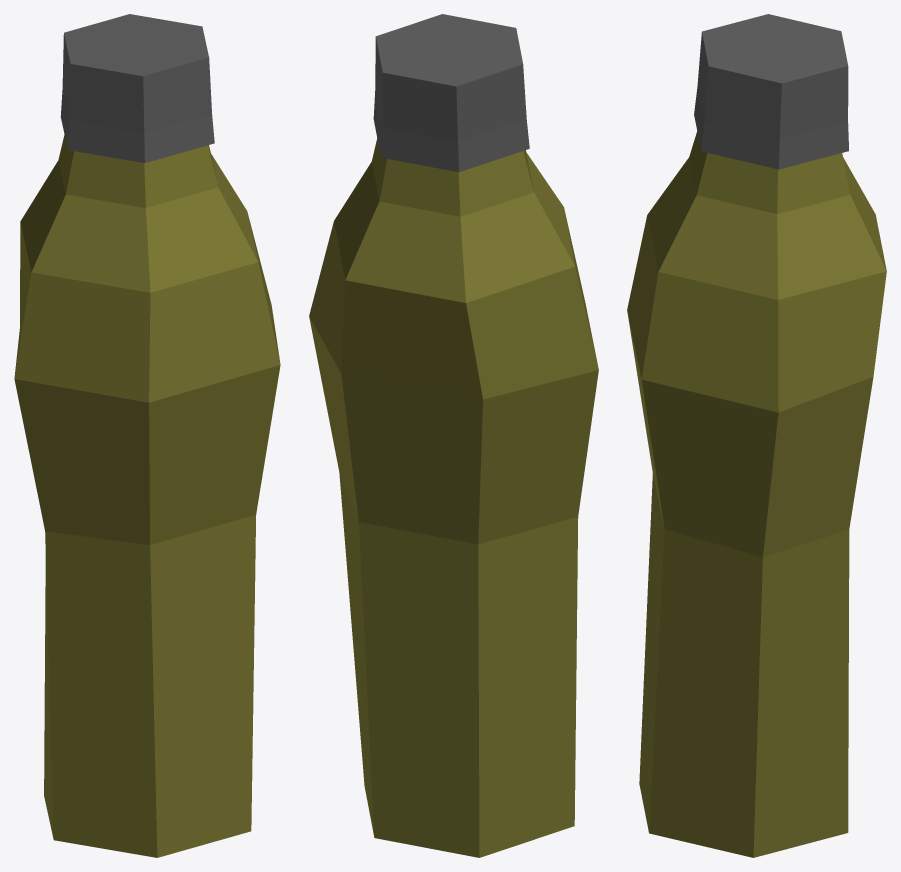
File: Bottle_21.fbx
3 renders of one model, left to right at view 1: azimuth 30°, elevation 25°; view 2: azimuth 150°, elevation 25°; view 3: azimuth 270°, elevation 25°, orthographic.
Parts seen in each view (by area): view 1: Bottle_21; view 2: Bottle_21; view 3: Bottle_21.
Boxes of the visible parts, bbox=[...] form: Bottle_21: bbox=[14, 14, 280, 857]; Bottle_21: bbox=[309, 14, 598, 857]; Bottle_21: bbox=[627, 14, 886, 857].
Bounding box in the file's own units: 17.34 × 14.26 × 46.52.
